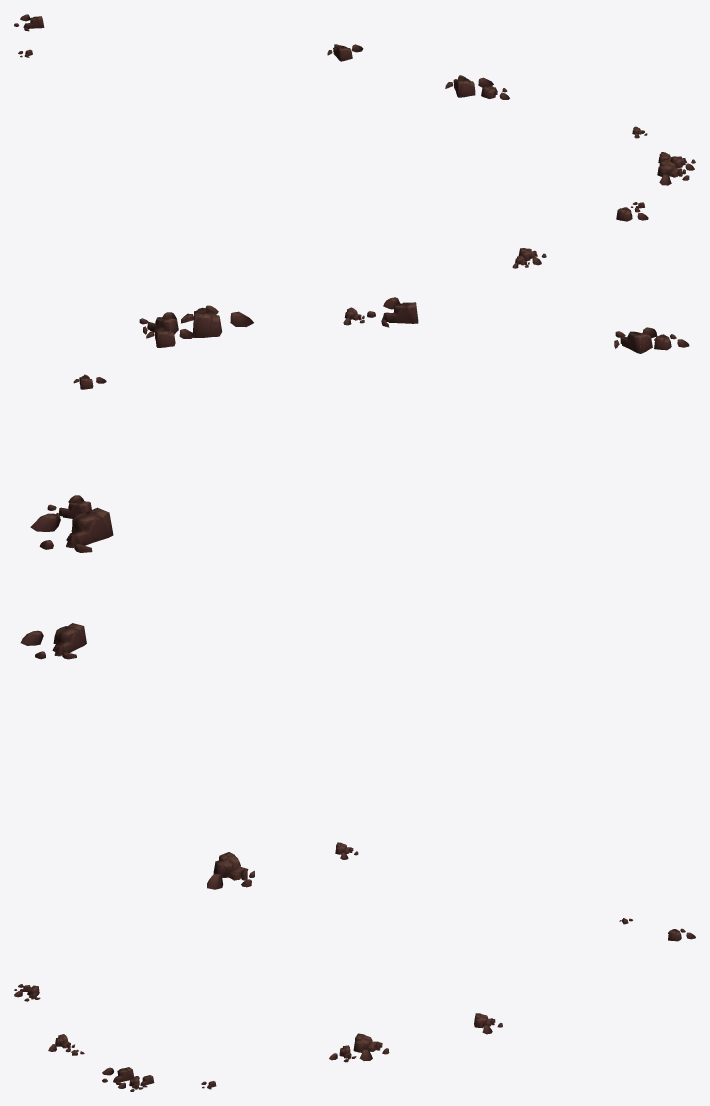
The model's file is yanshi2_wujian_1.fbx.
The picture shows the model from 3 angles, top to bottom: view 1: azimuth 30°, elevation 25°; view 2: azimuth 150°, elevation 25°; view 3: azimuth 270°, elevation 25°; orthographic projection. The views are drawn at different scales.
Parts seen in each view (by area): view 1: yanshi2_wujian_1; view 2: yanshi2_wujian_1; view 3: yanshi2_wujian_1.
Boxes of the visible parts, box(x1,y1,x2,y2) form: yanshi2_wujian_1: box(14, 14, 695, 268); yanshi2_wujian_1: box(20, 297, 689, 889); yanshi2_wujian_1: box(14, 918, 695, 1091).
Bounding box in the file's own units: 5095 × 165 × 8481.
